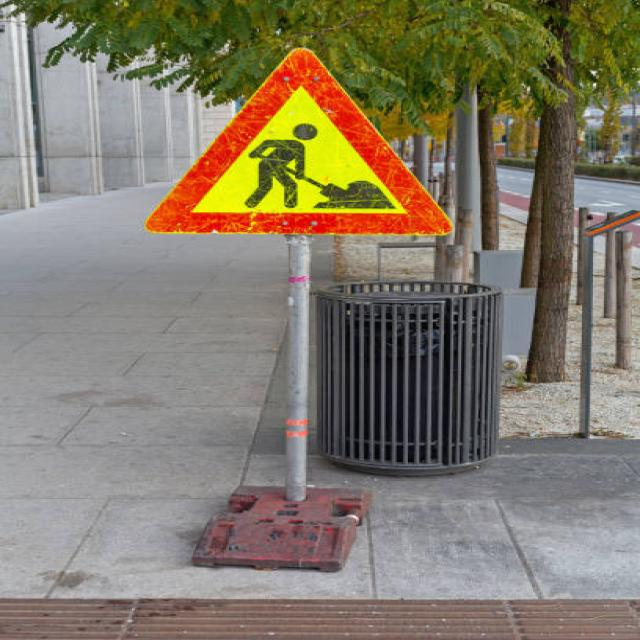road_work: (146, 46, 451, 239)
